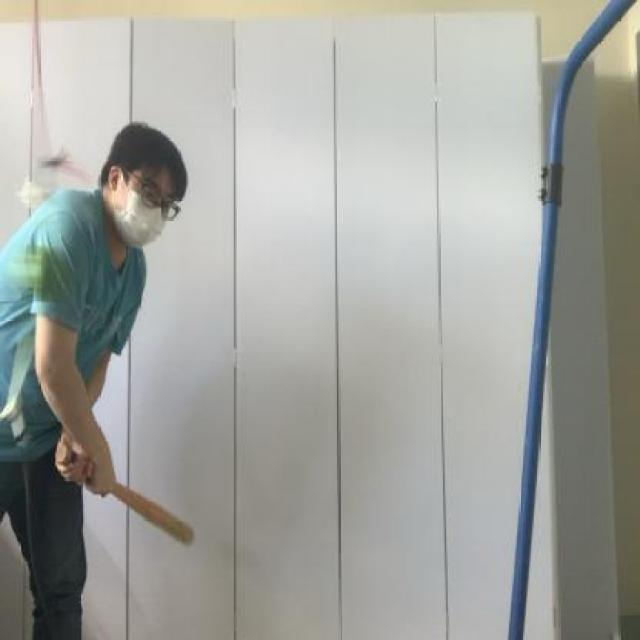baseball: (0, 238, 77, 316)
